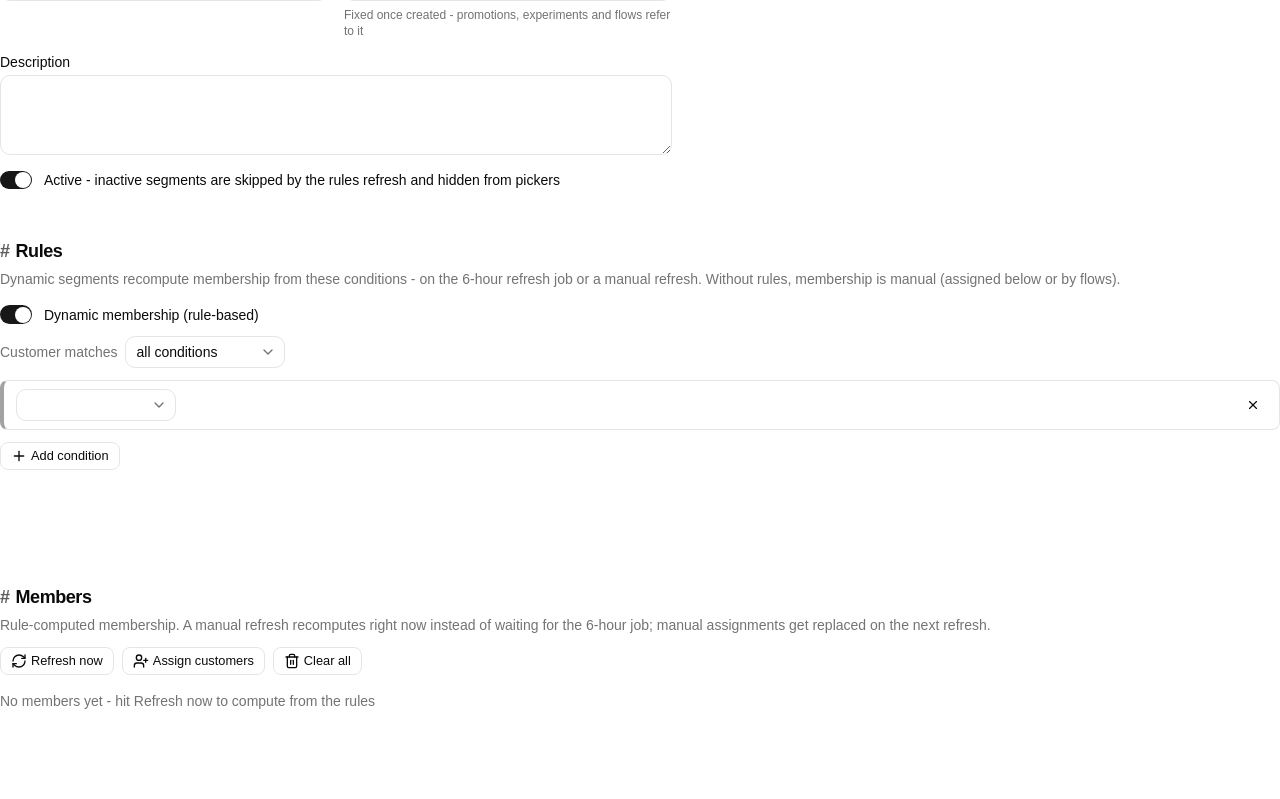
it: SegmentDetailPage clear membership › closes and toasts once the clear goes through
The image size is (1280, 799).
(page scrolled)
Click the button "Clear all" at (317, 661), box [273,647,362,675]
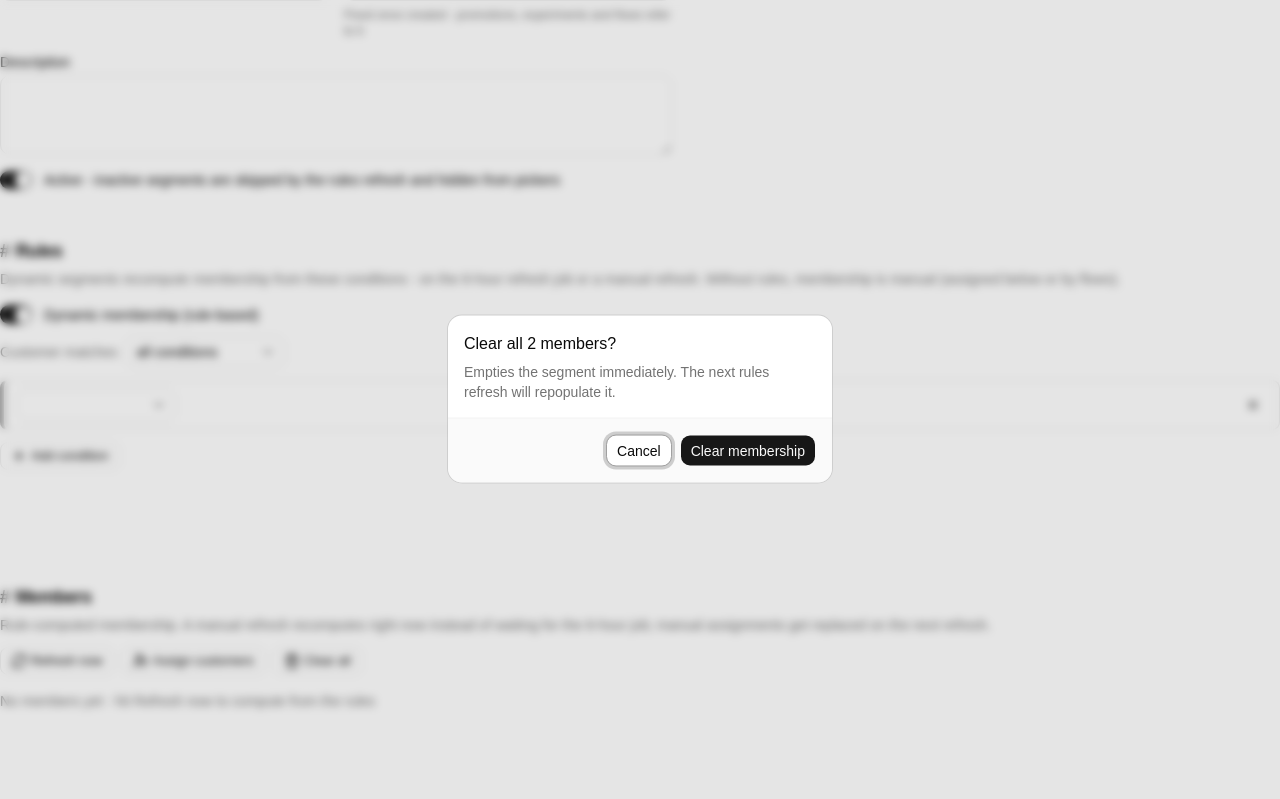
Click the button "Clear membership" at (748, 450), box [680,434,816,466]
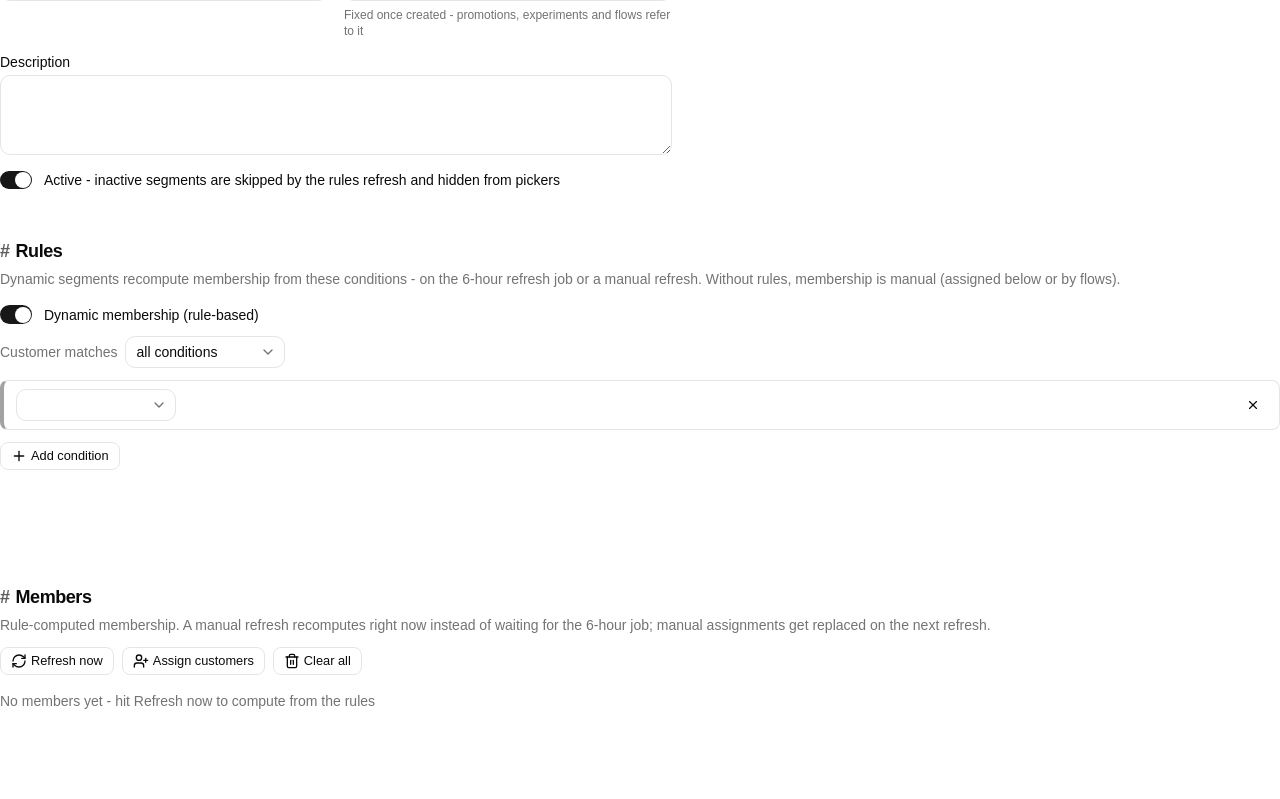
Check: the dialog is gone
